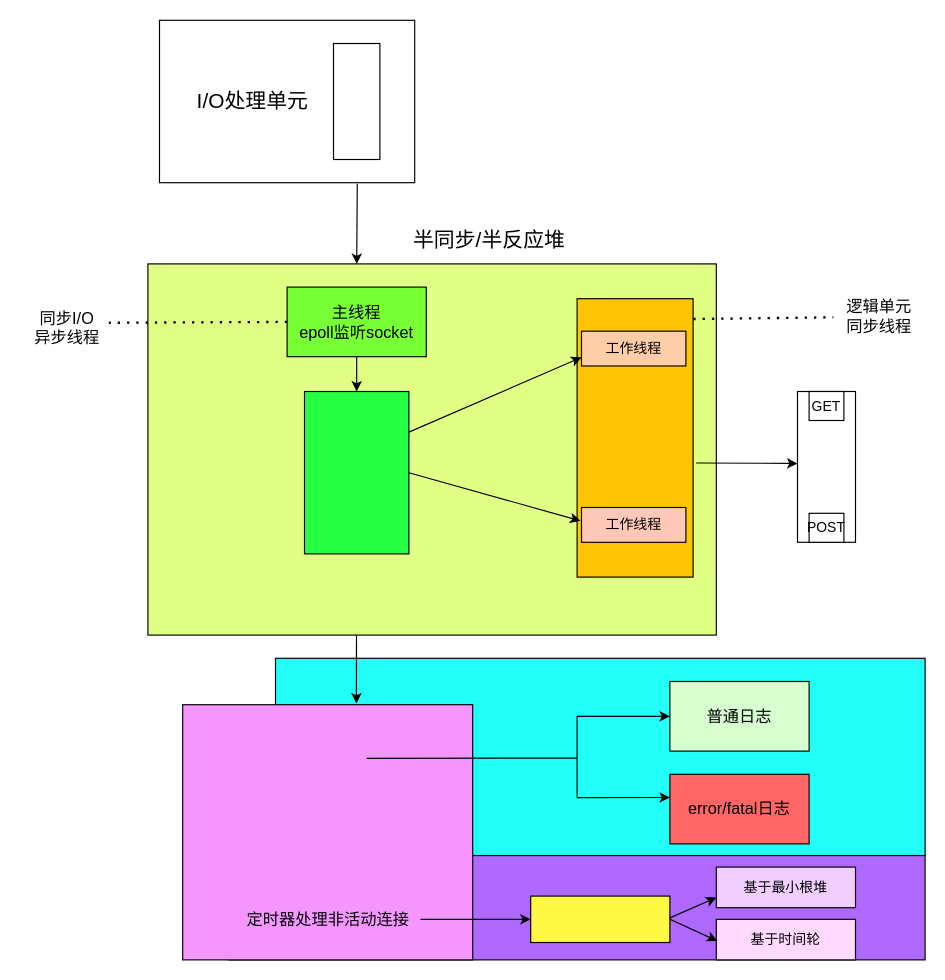
This 945x980 diagram has some shape labels left out. The box of each missing label's shape, as (x1, y1, x2, y2) in pixels:
业 务 处 理: (796, 390, 855, 542)
定时器: (530, 895, 670, 942)
日志输出: (182, 704, 473, 960)
请 求 队 列: (332, 42, 380, 160)
请求队列 queue 信号量唤醒: (303, 390, 409, 554)
